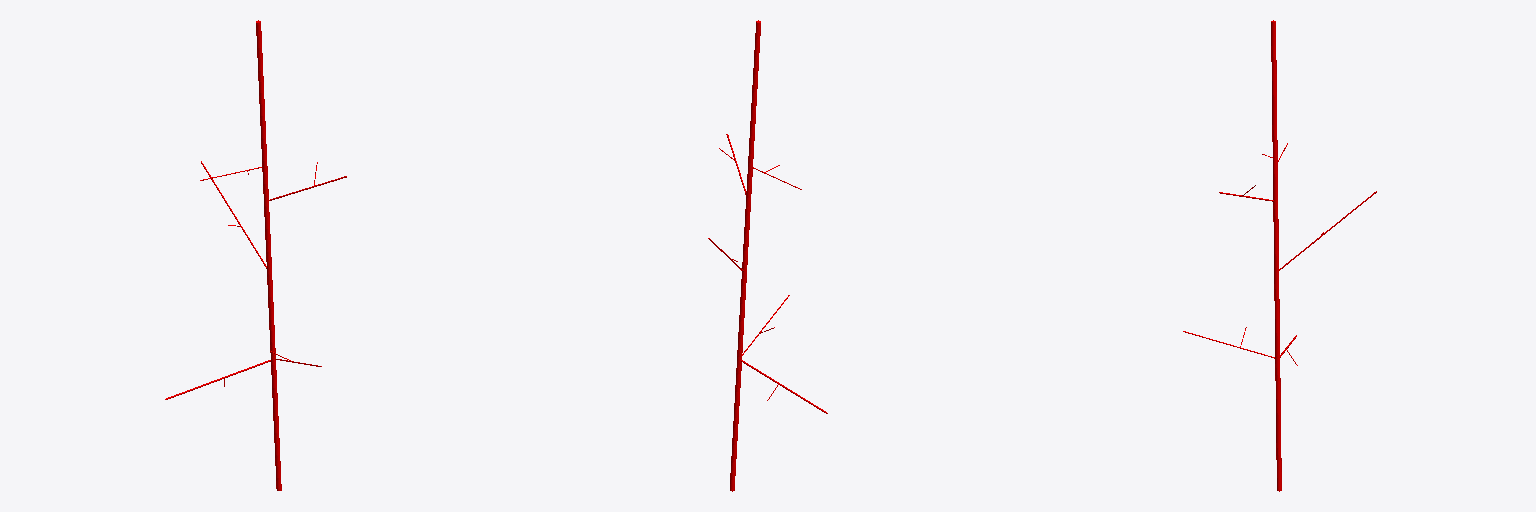
The robot description file, URDF, robot "tree_115.urdf":
<?xml version='1.0' encoding='UTF-8'?>
<robot name="tree_115.urdf">
  <link name="branch_0">
    <inertial>
      <origin xyz="0.0 0.0 0.0" rpy="0.0 -0.0 0.0"/>
      <mass value="0.1"/>
      <inertia ixx="0.001" ixy="0.0" ixz="0.0" iyy="0.001" iyz="0.0" izz="0.001"/>
    </inertial>
    <visual name="branch_0_visual">
      <geometry>
        <cylinder radius="0.058274768590629605" length="11.731970425735291"/>
      </geometry>
      <material name="semantic_material"/>
      <origin xyz="-0.30559564425843716 -0.06837861256974043 5.8576205224592" rpy="0.0 0.053409814868584746 -2.9214633512013997"/>
    </visual>
    <collision name="branch_0_collision">
      <geometry>
        <cylinder radius="0.058274768590629605" length="11.731970425735291"/>
      </geometry>
      <origin xyz="-0.30559564425843716 -0.06837861256974043 5.8576205224592" rpy="0.0 0.053409814868584746 -2.9214633512013997"/>
    </collision>
  </link>
  <link name="branch_1">
    <inertial>
      <origin xyz="0.0 0.0 0.0" rpy="0.0 -0.0 0.0"/>
      <mass value="0.1"/>
      <inertia ixx="0.001" ixy="0.0" ixz="0.0" iyy="0.001" iyz="0.0" izz="0.001"/>
    </inertial>
    <visual name="branch_1_visual">
      <geometry>
        <cylinder radius="0.011729401202207602" length="1.5393207928367219"/>
      </geometry>
      <material name="semantic_material"/>
      <origin xyz="0.0 0.0 0.0" rpy="0.0 -0.0 0.0"/>
    </visual>
    <collision name="branch_1_collision">
      <geometry>
        <cylinder radius="0.011729401202207602" length="1.5393207928367219"/>
      </geometry>
      <origin xyz="0.0 0.0 0.0" rpy="0.0 -0.0 0.0"/>
    </collision>
  </link>
  <link name="branch_2">
    <inertial>
      <origin xyz="0.0 0.0 0.0" rpy="0.0 -0.0 0.0"/>
      <mass value="0.1"/>
      <inertia ixx="0.001" ixy="0.0" ixz="0.0" iyy="0.001" iyz="0.0" izz="0.001"/>
    </inertial>
    <visual name="branch_2_visual">
      <geometry>
        <cylinder radius="0.01" length="0.42901744720979074"/>
      </geometry>
      <material name="semantic_material"/>
      <origin xyz="0.0 0.0 0.0" rpy="0.0 -0.0 0.0"/>
    </visual>
    <collision name="branch_2_collision">
      <geometry>
        <cylinder radius="0.01" length="0.42901744720979074"/>
      </geometry>
      <origin xyz="0.0 0.0 0.0" rpy="0.0 -0.0 0.0"/>
    </collision>
  </link>
  <link name="branch_3">
    <inertial>
      <origin xyz="0.0 0.0 0.0" rpy="0.0 -0.0 0.0"/>
      <mass value="0.1"/>
      <inertia ixx="0.001" ixy="0.0" ixz="0.0" iyy="0.001" iyz="0.0" izz="0.001"/>
    </inertial>
    <visual name="branch_3_visual">
      <geometry>
        <cylinder radius="0.013854343578073943" length="2.308520113675543"/>
      </geometry>
      <material name="semantic_material"/>
      <origin xyz="0.0 0.0 0.0" rpy="0.0 -0.0 0.0"/>
    </visual>
    <collision name="branch_3_collision">
      <geometry>
        <cylinder radius="0.013854343578073943" length="2.308520113675543"/>
      </geometry>
      <origin xyz="0.0 0.0 0.0" rpy="0.0 -0.0 0.0"/>
    </collision>
  </link>
  <link name="branch_4">
    <inertial>
      <origin xyz="0.0 0.0 0.0" rpy="0.0 -0.0 0.0"/>
      <mass value="0.1"/>
      <inertia ixx="0.001" ixy="0.0" ixz="0.0" iyy="0.001" iyz="0.0" izz="0.001"/>
    </inertial>
    <visual name="branch_4_visual">
      <geometry>
        <cylinder radius="0.01" length="0.5794998892062447"/>
      </geometry>
      <material name="semantic_material"/>
      <origin xyz="0.0 0.0 0.0" rpy="0.0 -0.0 0.0"/>
    </visual>
    <collision name="branch_4_collision">
      <geometry>
        <cylinder radius="0.01" length="0.5794998892062447"/>
      </geometry>
      <origin xyz="0.0 0.0 0.0" rpy="0.0 -0.0 0.0"/>
    </collision>
  </link>
  <link name="branch_5">
    <inertial>
      <origin xyz="0.0 0.0 0.0" rpy="0.0 -0.0 0.0"/>
      <mass value="0.1"/>
      <inertia ixx="0.001" ixy="0.0" ixz="0.0" iyy="0.001" iyz="0.0" izz="0.001"/>
    </inertial>
    <visual name="branch_5_visual">
      <geometry>
        <cylinder radius="0.016720986802749607" length="3.0156725586891056"/>
      </geometry>
      <material name="semantic_material"/>
      <origin xyz="0.0 0.0 0.0" rpy="0.0 -0.0 0.0"/>
    </visual>
    <collision name="branch_5_collision">
      <geometry>
        <cylinder radius="0.016720986802749607" length="3.0156725586891056"/>
      </geometry>
      <origin xyz="0.0 0.0 0.0" rpy="0.0 -0.0 0.0"/>
    </collision>
  </link>
  <link name="branch_6">
    <inertial>
      <origin xyz="0.0 0.0 0.0" rpy="0.0 -0.0 0.0"/>
      <mass value="0.1"/>
      <inertia ixx="0.001" ixy="0.0" ixz="0.0" iyy="0.001" iyz="0.0" izz="0.001"/>
    </inertial>
    <visual name="branch_6_visual">
      <geometry>
        <cylinder radius="0.01" length="0.30280889156510626"/>
      </geometry>
      <material name="semantic_material"/>
      <origin xyz="0.0 0.0 0.0" rpy="0.0 -0.0 0.0"/>
    </visual>
    <collision name="branch_6_collision">
      <geometry>
        <cylinder radius="0.01" length="0.30280889156510626"/>
      </geometry>
      <origin xyz="0.0 0.0 0.0" rpy="0.0 -0.0 0.0"/>
    </collision>
  </link>
  <link name="branch_7">
    <inertial>
      <origin xyz="0.0 0.0 0.0" rpy="0.0 -0.0 0.0"/>
      <mass value="0.1"/>
      <inertia ixx="0.001" ixy="0.0" ixz="0.0" iyy="0.001" iyz="0.0" izz="0.001"/>
    </inertial>
    <visual name="branch_7_visual">
      <geometry>
        <cylinder radius="0.020936151464033763" length="2.628770622149026"/>
      </geometry>
      <material name="semantic_material"/>
      <origin xyz="0.0 0.0 0.0" rpy="0.0 -0.0 0.0"/>
    </visual>
    <collision name="branch_7_collision">
      <geometry>
        <cylinder radius="0.020936151464033763" length="2.628770622149026"/>
      </geometry>
      <origin xyz="0.0 0.0 0.0" rpy="0.0 -0.0 0.0"/>
    </collision>
  </link>
  <link name="branch_8">
    <inertial>
      <origin xyz="0.0 0.0 0.0" rpy="0.0 -0.0 0.0"/>
      <mass value="0.1"/>
      <inertia ixx="0.001" ixy="0.0" ixz="0.0" iyy="0.001" iyz="0.0" izz="0.001"/>
    </inertial>
    <visual name="branch_8_visual">
      <geometry>
        <cylinder radius="0.01" length="0.4667891800132747"/>
      </geometry>
      <material name="semantic_material"/>
      <origin xyz="0.0 0.0 0.0" rpy="0.0 -0.0 0.0"/>
    </visual>
    <collision name="branch_8_collision">
      <geometry>
        <cylinder radius="0.01" length="0.4667891800132747"/>
      </geometry>
      <origin xyz="0.0 0.0 0.0" rpy="0.0 -0.0 0.0"/>
    </collision>
  </link>
  <link name="branch_9">
    <inertial>
      <origin xyz="0.0 0.0 0.0" rpy="0.0 -0.0 0.0"/>
      <mass value="0.1"/>
      <inertia ixx="0.001" ixy="0.0" ixz="0.0" iyy="0.001" iyz="0.0" izz="0.001"/>
    </inertial>
    <visual name="branch_9_visual">
      <geometry>
        <cylinder radius="0.01814165994275174" length="2.028935404700912"/>
      </geometry>
      <material name="semantic_material"/>
      <origin xyz="0.0 0.0 0.0" rpy="0.0 -0.0 0.0"/>
    </visual>
    <collision name="branch_9_collision">
      <geometry>
        <cylinder radius="0.01814165994275174" length="2.028935404700912"/>
      </geometry>
      <origin xyz="0.0 0.0 0.0" rpy="0.0 -0.0 0.0"/>
    </collision>
  </link>
  <link name="branch_10">
    <inertial>
      <origin xyz="0.0 0.0 0.0" rpy="0.0 -0.0 0.0"/>
      <mass value="0.1"/>
      <inertia ixx="0.001" ixy="0.0" ixz="0.0" iyy="0.001" iyz="0.0" izz="0.001"/>
    </inertial>
    <visual name="branch_10_visual">
      <geometry>
        <cylinder radius="0.01" length="0.5811587318273433"/>
      </geometry>
      <material name="semantic_material"/>
      <origin xyz="0.0 0.0 0.0" rpy="0.0 -0.0 0.0"/>
    </visual>
    <collision name="branch_10_collision">
      <geometry>
        <cylinder radius="0.01" length="0.5811587318273433"/>
      </geometry>
      <origin xyz="0.0 0.0 0.0" rpy="0.0 -0.0 0.0"/>
    </collision>
  </link>
  <joint name="joint_0_1" type="fixed">
    <parent link="branch_0"/>
    <child link="branch_1"/>
    <axis xyz="1. 0. 0."/>
    <origin xyz="-1.1761691142631283 0.049281927937127615 8.035531813445862" rpy="-2.8612894041765267 1.4942499756508112 0.09270168491964509"/>
  </joint>
  <joint name="joint_0_3" type="fixed">
    <parent link="branch_0"/>
    <child link="branch_3"/>
    <axis xyz="1. 0. 0."/>
    <origin xyz="-0.18301381474571582 -1.1390401050820649 3.637315825699683" rpy="0.17156572560809272 1.2602483888299794 -1.4011353460392817"/>
  </joint>
  <joint name="joint_0_5" type="fixed">
    <parent link="branch_0"/>
    <child link="branch_5"/>
    <axis xyz="1. 0. 0."/>
    <origin xyz="-0.49271286492097305 1.0987705778927097 6.387091217353081" rpy="-0.08533983853016258 0.8968748599269248 1.6391554268196125"/>
  </joint>
  <joint name="joint_0_7" type="fixed">
    <parent link="branch_0"/>
    <child link="branch_7"/>
    <axis xyz="1. 0. 0."/>
    <origin xyz="-1.4348500653587966 0.17969987715685076 2.983858931758109" rpy="-3.0493030375373205 1.3505087080283076 -0.07609239491039088"/>
  </joint>
  <joint name="joint_0_9" type="fixed">
    <parent link="branch_0"/>
    <child link="branch_9"/>
    <axis xyz="1. 0. 0."/>
    <origin xyz="0.27712131444756666 -0.7390530549867507 7.638950578360719" rpy="0.10825943284821567 1.1459515009691086 -0.667258593333214"/>
  </joint>
  <joint name="joint_1_2" type="fixed">
    <parent link="branch_0"/>
    <child link="branch_2"/>
    <axis xyz="1. 0. 0."/>
    <origin xyz="-0.9185351549050411 -0.20839229672775045 8.100652333765169" rpy="1.3856078438899802 -0.11667088198803831 -0.40613994151910526"/>
  </joint>
  <joint name="joint_3_4" type="fixed">
    <parent link="branch_0"/>
    <child link="branch_4"/>
    <axis xyz="1. 0. 0."/>
    <origin xyz="-0.41584978195933503 -0.8383487481729622 3.7186413949810775" rpy="-0.9697121841613066 0.3390026317942689 1.510335729906594"/>
  </joint>
  <joint name="joint_5_6" type="fixed">
    <parent link="branch_0"/>
    <child link="branch_6"/>
    <axis xyz="1. 0. 0."/>
    <origin xyz="-0.5938084795313686 0.9681586953666517 6.247046684280357" rpy="1.4198266365968408 0.7203483216497324 -2.111984615110856"/>
  </joint>
  <joint name="joint_7_8" type="fixed">
    <parent link="branch_0"/>
    <child link="branch_8"/>
    <axis xyz="1. 0. 0."/>
    <origin xyz="-1.2333031098657052 0.28752080592485807 2.8335164399291517" rpy="-2.486798115920335 -0.26137601650565867 -0.20361394387865714"/>
  </joint>
  <joint name="joint_9_10" type="fixed">
    <parent link="branch_0"/>
    <child link="branch_10"/>
    <axis xyz="1. 0. 0."/>
    <origin xyz="0.5322553520354982 -0.701797262482405 7.919561367138054" rpy="0.761671075177312 0.2589544192141619 2.1811099822495814"/>
  </joint>
  <material name="semantic_material">
    <color rgba="1. 0. 0. 1."/>
  </material>
</robot>

--- Facts derived from the render (not from the file) ---
Views: 3 orthographic renders of the robot side by side, from view 1: azimuth 30°, elevation 25°; view 2: azimuth 150°, elevation 25°; view 3: azimuth 270°, elevation 25°.
Model tree_115.urdf with 11 links and 10 joints (10 fixed), rooted at branch_0, posed every joint at zero.
Visible links, largest first — view 1: branch_0; view 2: branch_0; view 3: branch_0.
Boxes of the visible links, <box> form: branch_0: <box>256,20,281,490</box>; branch_0: <box>730,20,760,491</box>; branch_0: <box>1271,20,1281,491</box>.
Size in the robot's own frame: 3.65 by 4.52 by 11.72 metres.
Geometry: primitives only (box / cylinder / sphere), no mesh files.
